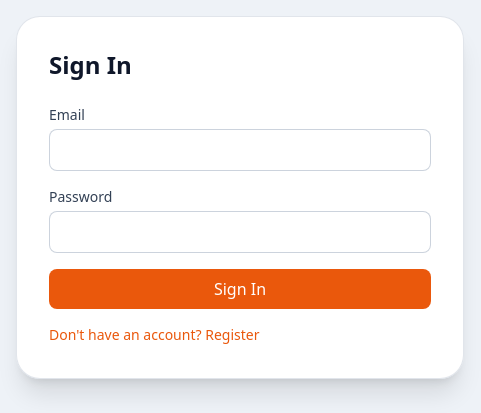
AuthPage › switches from login to register mode
Check: the heading "Sign In" is shown, box [49,48,132,80]
Click the button "Don't have an account? Register": click(154, 334) [49,324,260,344]
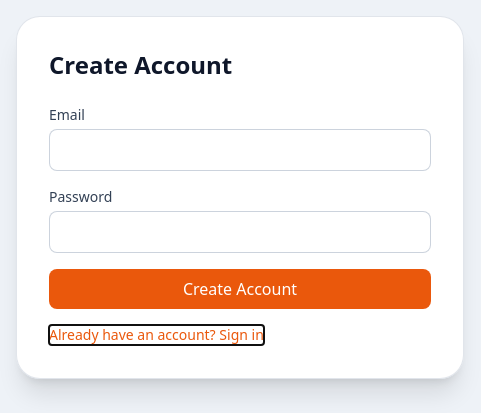
Check: the heading "Create Account" is shown, box [49,48,232,80]
